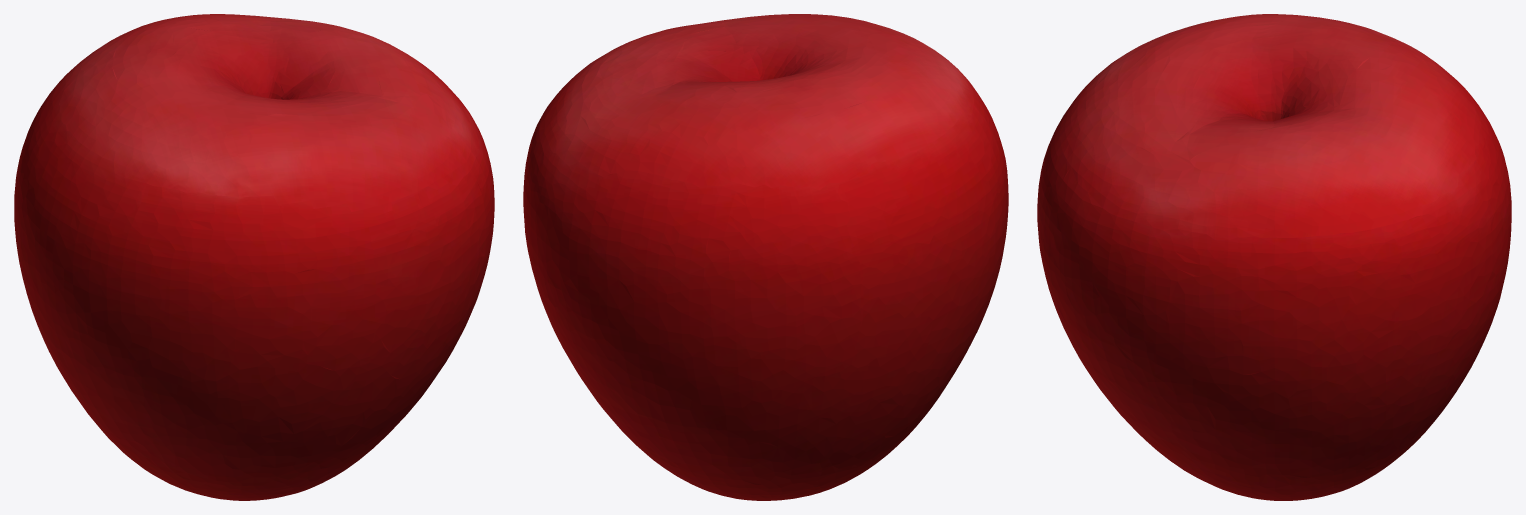
File: apple_red.glb
3 renders of one model, left to right at view 1: azimuth 30°, elevation 25°; view 2: azimuth 150°, elevation 25°; view 3: azimuth 270°, elevation 25°, orthographic.
Visible parts, largest first — view 1: geometry_0; view 2: geometry_0; view 3: geometry_0.
Boxes of the visible parts, <box> form: geometry_0: <box>14,14,494,500</box>; geometry_0: <box>523,14,1008,500</box>; geometry_0: <box>1037,14,1511,500</box>.
Size of the model in its own units: 0.9969 by 0.9843 by 0.9968.
1 material, 1 textured.
